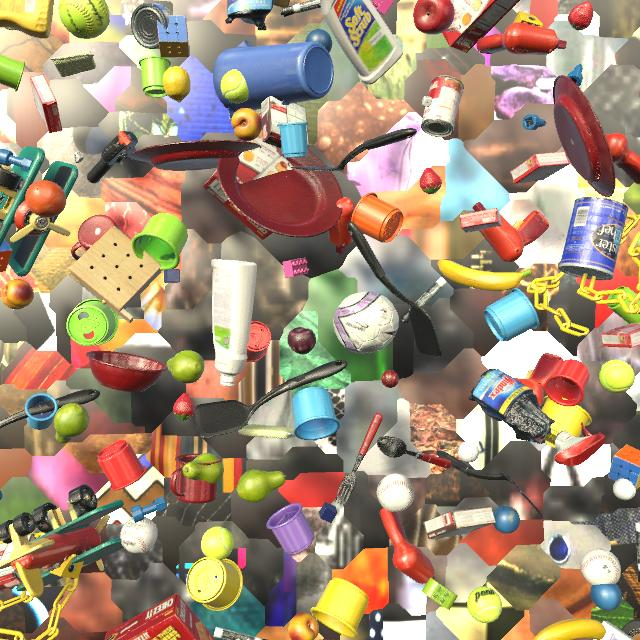ycb_002_master_chef_can: (559, 197, 629, 280)
ycb_003_cracker_box: (203, 112, 314, 240), (105, 593, 215, 640), (442, 0, 520, 53)
ycb_004_sugar_box: (593, 621, 635, 640)
ycb_005_tomato_soup_can: (421, 75, 464, 138), (446, 0, 460, 33)
ycb_006_mustard_bottle: (0, 0, 54, 39)
ycb_007_tuna_fish_can: (131, 3, 173, 49)
ycb_008_pudding_box: (261, 96, 309, 149), (423, 506, 496, 540), (0, 533, 36, 591)
ycb_009_gelatin_box: (510, 151, 570, 184), (30, 74, 62, 133), (459, 208, 501, 233), (600, 323, 640, 348)
ycb_011_banana: (437, 259, 532, 291), (532, 618, 606, 640)
ycb_012_strawberry: (568, 1, 594, 31), (419, 167, 442, 194), (173, 393, 195, 421)
ycb_013_apple: (413, 0, 455, 35)
ycb_014_lemon: (163, 66, 191, 103)
ycb_015_peach: (231, 108, 262, 141), (1, 279, 34, 309), (288, 612, 319, 640)
ycb_016_pear: (236, 469, 286, 503), (54, 403, 89, 443), (182, 453, 224, 484), (166, 350, 204, 384)
ycb_017_orange: (25, 180, 66, 218)
ycb_018_plum: (287, 327, 316, 355)
